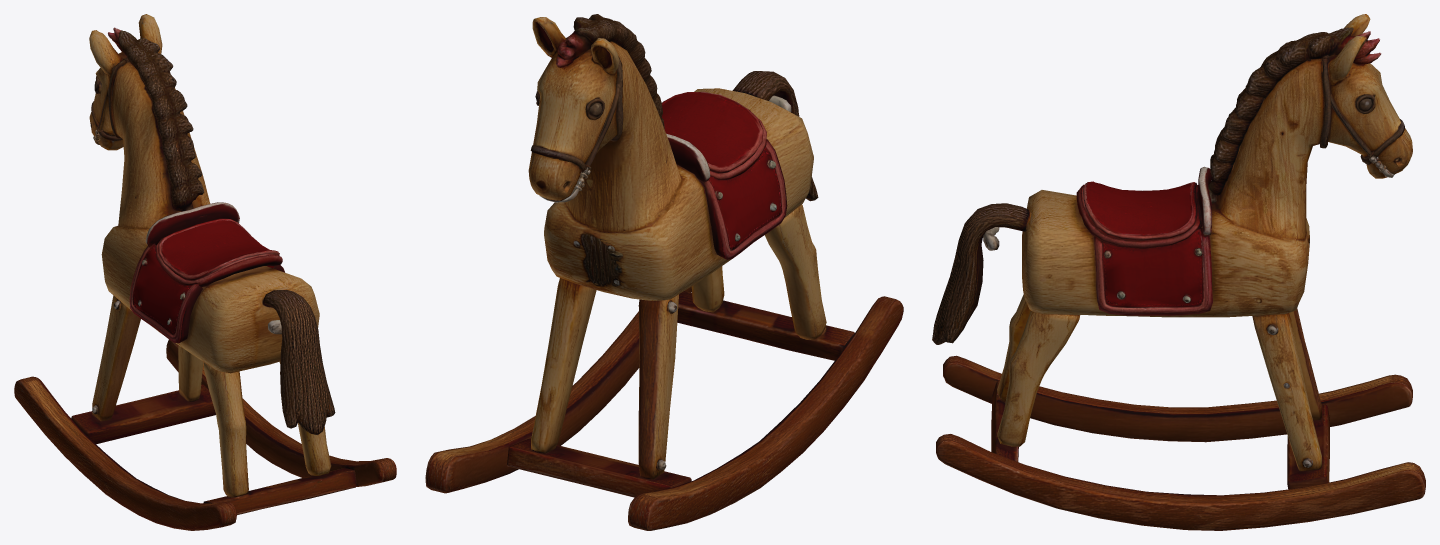
3 views of the same model, side by side, from view 1: azimuth 30°, elevation 25°; view 2: azimuth 150°, elevation 25°; view 3: azimuth 270°, elevation 25° (orthographic). The views are drawn at different scales.
Visible parts, largest first — view 1: tripo_node_f285ed7c-22c7-4e29-adc9-f0470da0e9d8; view 2: tripo_node_f285ed7c-22c7-4e29-adc9-f0470da0e9d8; view 3: tripo_node_f285ed7c-22c7-4e29-adc9-f0470da0e9d8.
Part boxes in pixels (box(x1,y1,x2,y2)): tripo_node_f285ed7c-22c7-4e29-adc9-f0470da0e9d8: box(14, 14, 396, 530); tripo_node_f285ed7c-22c7-4e29-adc9-f0470da0e9d8: box(425, 14, 903, 530); tripo_node_f285ed7c-22c7-4e29-adc9-f0470da0e9d8: box(932, 14, 1425, 530).
Size of the model in its own units: 0.4551 by 0.998 by 0.9746.
Materials: 1 (1 with a texture image).
